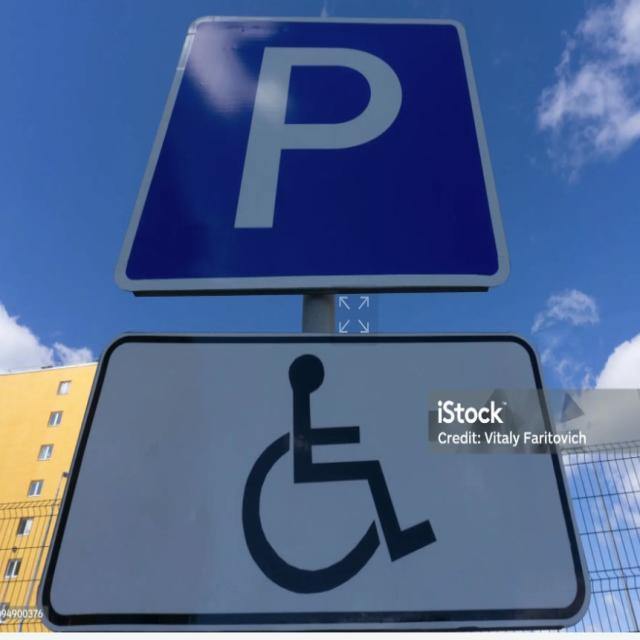symbol_of_access: (32, 329, 594, 629)
